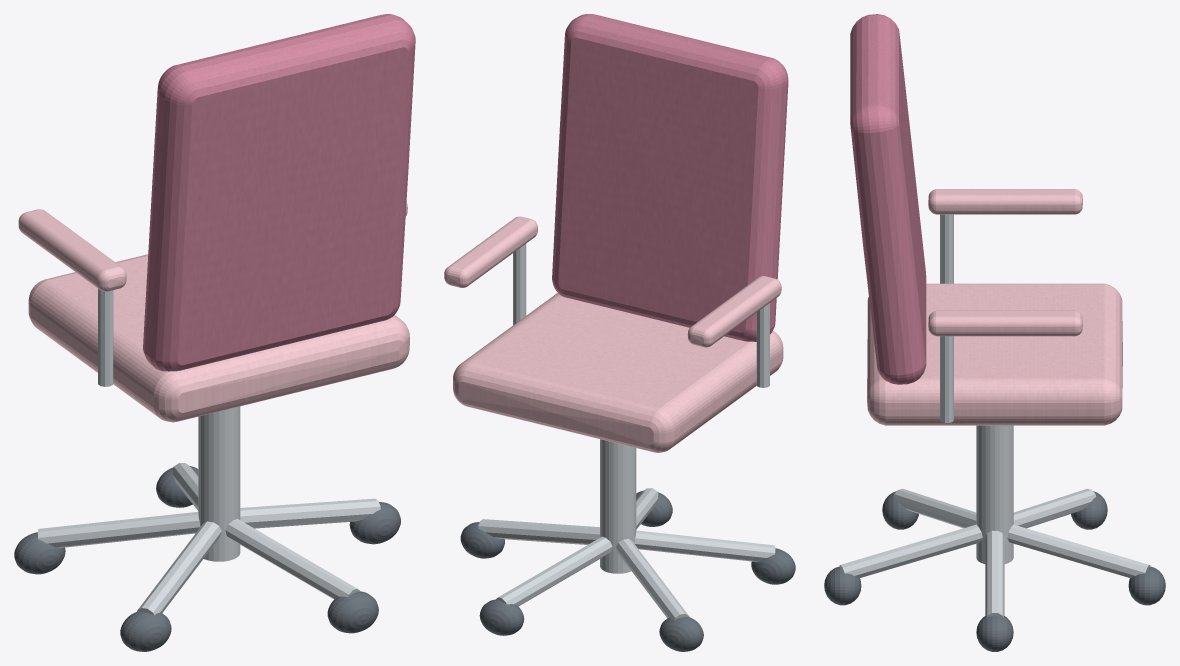
File: Chair_01.glb
3 renders of one model, left to right at view 1: azimuth 30°, elevation 25°; view 2: azimuth 150°, elevation 25°; view 3: azimuth 270°, elevation 25°, orthographic. The views are drawn at different scales.
Visible parts, largest first — view 1: backrest_3, seat_cushion_2, chair_piston_1, armrest_5, rod_14, rod_10, rod_8, rod_12, caster_11, caster_13, rod_4, caster_15 (+3 smaller); view 2: backrest_3, seat_cushion_2, chair_piston_1, armrest_5, armrest_7, rod_12, rod_16, rod_8, rod_14, caster_15, caster_17, rod_4 (+5 smaller); view 3: seat_cushion_2, backrest_3, chair_piston_1, armrest_7, armrest_5, rod_10, rod_16, rod_8, rod_12, rod_14, rod_6, caster_9 (+5 smaller).
Boxes of the visible parts, box(x1,y1,x2,y2) form: backrest_3: box(143, 14, 415, 371); seat_cushion_2: box(28, 254, 409, 422); chair_piston_1: box(198, 406, 240, 561); armrest_5: box(18, 209, 126, 291); rod_14: box(38, 511, 200, 547); rod_10: box(225, 519, 360, 599); rod_8: box(240, 498, 380, 528); rod_12: box(137, 521, 221, 615); caster_11: box(327, 591, 378, 633); caster_13: box(120, 611, 171, 651); rod_4: box(98, 289, 113, 386); caster_15: box(14, 532, 65, 574); backrest_3: box(552, 14, 788, 341); seat_cushion_2: box(453, 293, 783, 452); chair_piston_1: box(600, 439, 636, 573); armrest_5: box(687, 276, 781, 347); armrest_7: box(444, 216, 537, 287); rod_12: box(634, 530, 775, 561); rod_16: box(496, 536, 612, 606); rod_8: box(478, 519, 599, 544); rod_14: box(616, 538, 689, 620); caster_15: box(659, 617, 703, 651); caster_17: box(479, 599, 524, 635); rod_4: box(756, 303, 769, 387); seat_cushion_2: box(867, 283, 1122, 425); backrest_3: box(850, 14, 926, 384); chair_piston_1: box(976, 425, 1013, 563); armrest_7: box(928, 310, 1082, 336); armrest_5: box(928, 189, 1082, 214); rod_10: box(839, 524, 982, 578); rod_16: box(1007, 524, 1150, 578); rod_8: box(985, 530, 1004, 617); rod_12: box(894, 488, 976, 528); rod_14: box(1013, 488, 1095, 528); rod_6: box(940, 336, 953, 422); caster_9: box(976, 616, 1013, 651).
Size of the model in its own units: 0.6419 by 1.08 by 0.6406.
Materials: 4 (2 with a texture image).
